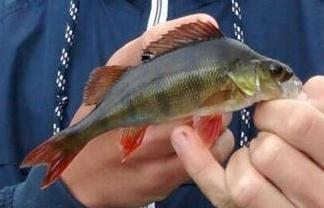Perch: (20, 20, 303, 194)
